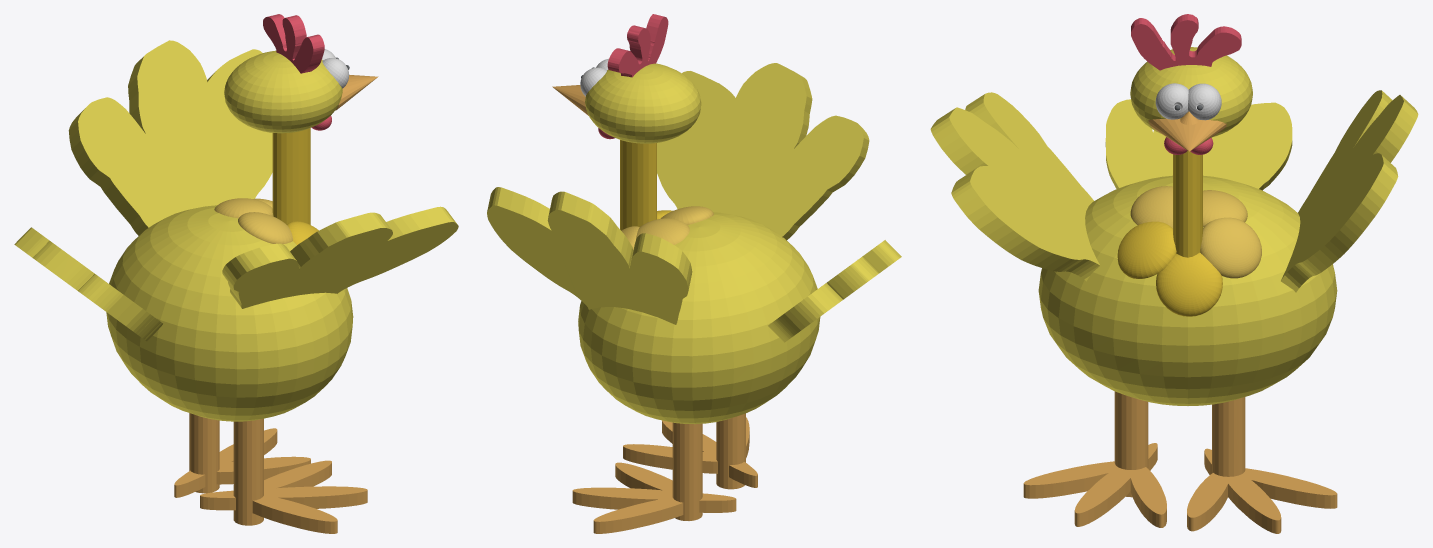
File: Clara Pita.glb
3 views of the same model, side by side, from view 1: azimuth 30°, elevation 25°; view 2: azimuth 150°, elevation 25°; view 3: azimuth 270°, elevation 25° (orthographic). The views are drawn at different scales.
Visible parts, largest first — view 1: Mesh_Mesh_head_geo.001_lambert2SG.001; view 2: Mesh_Mesh_head_geo.001_lambert2SG.001; view 3: Mesh_Mesh_head_geo.001_lambert2SG.001.
Boxes of the visible parts, x1=… form: Mesh_Mesh_head_geo.001_lambert2SG.001: x1=14, y1=14, x2=458, y2=533; Mesh_Mesh_head_geo.001_lambert2SG.001: x1=487, y1=14, x2=901, y2=533; Mesh_Mesh_head_geo.001_lambert2SG.001: x1=930, y1=14, x2=1418, y2=533.
Size of the model in its own units: 0.0568 by 0.0754 by 0.0653.
